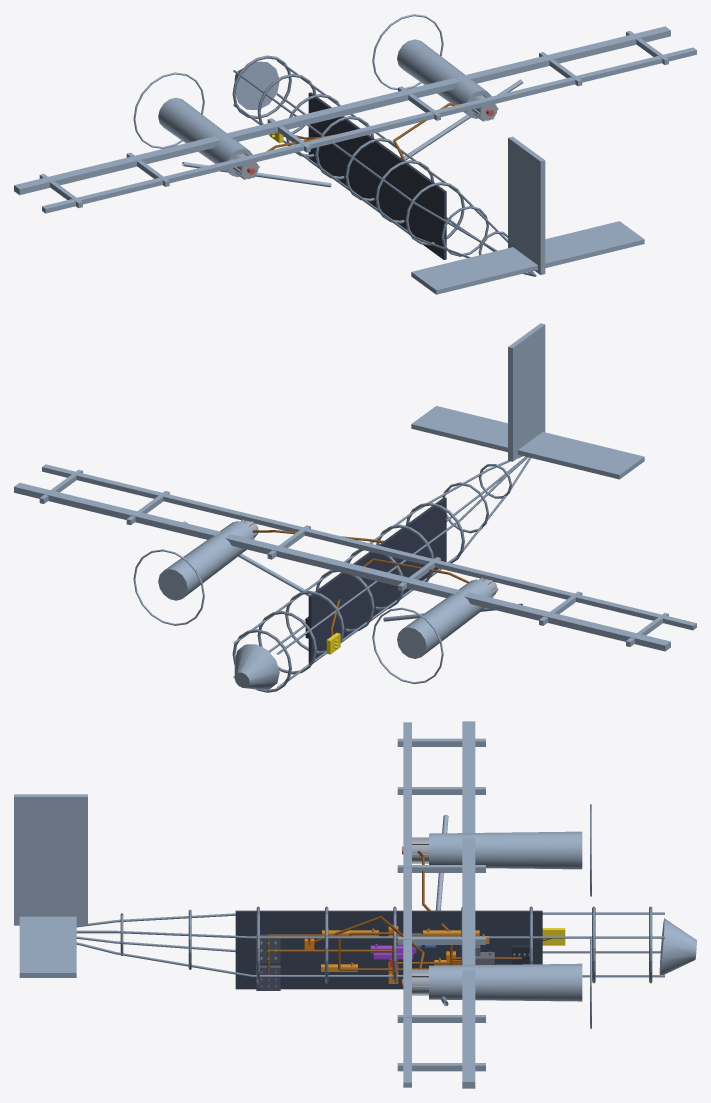
Rendered from electrical_system_training.glb.
The picture shows the model from 3 angles, top to bottom: view 1: azimuth 30°, elevation 25°; view 2: azimuth 150°, elevation 25°; view 3: azimuth 270°, elevation 25°; orthographic projection. The views are drawn at different scales.
Visible parts, largest first — view 1: ctx_wing, ctx_tail, ctx_distribution_board, ctx_nacelles, ctx_body_frame, ctx_nose, ctx_lift_struts; view 2: ctx_wing, ctx_tail, ctx_nacelles, ctx_distribution_board, ctx_body_frame, ctx_nose, ctx_wiring, ctx_lift_struts; view 3: ctx_distribution_board, ctx_tail, ctx_wing, ctx_nacelles, ctx_body_frame, ctx_wiring, ctx_nose.
Part boxes in pixels (<box>): ctx_wing: <box>14,26,696,213</box>; ctx_tail: <box>411,136,644,294</box>; ctx_distribution_board: <box>308,92,446,259</box>; ctx_nacelles: <box>133,14,491,177</box>; ctx_body_frame: <box>232,55,536,276</box>; ctx_nose: <box>234,61,279,110</box>; ctx_lift_struts: <box>182,79,522,187</box>; ctx_wing: <box>14,464,696,651</box>; ctx_tail: <box>411,323,644,479</box>; ctx_nacelles: <box>133,521,492,683</box>; ctx_distribution_board: <box>308,497,446,663</box>; ctx_body_frame: <box>232,455,531,692</box>; ctx_nose: <box>234,644,279,689</box>; ctx_wiring: <box>252,530,469,636</box>; ctx_lift_struts: <box>183,521,522,621</box>; ctx_distribution_board: <box>235,910,542,989</box>; ctx_tail: <box>14,794,87,977</box>; ctx_wing: <box>397,721,485,1088</box>; ctx_nacelles: <box>429,804,591,1028</box>; ctx_body_frame: <box>76,906,664,983</box>; ctx_wiring: <box>267,851,551,979</box>; ctx_nose: <box>659,918,696,974</box>.
Size of the model in its own units: 3 by 0.75 by 2.4.
